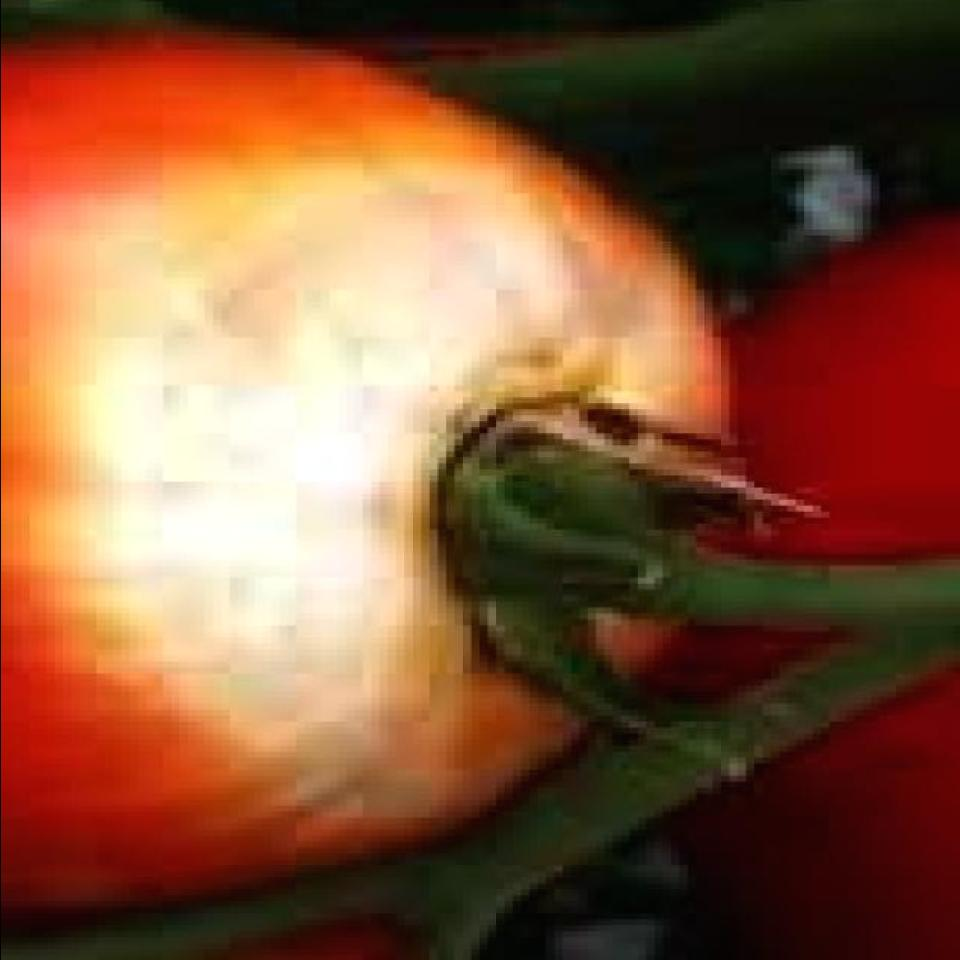Sunscald: (15, 124, 634, 862)
